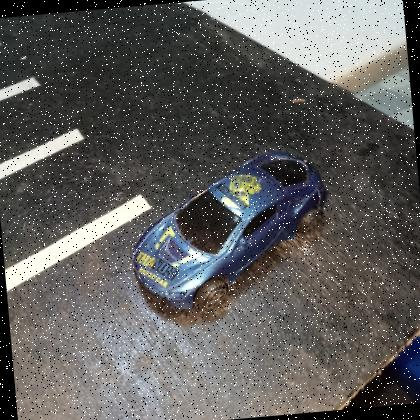Car: (131, 151, 325, 312)
